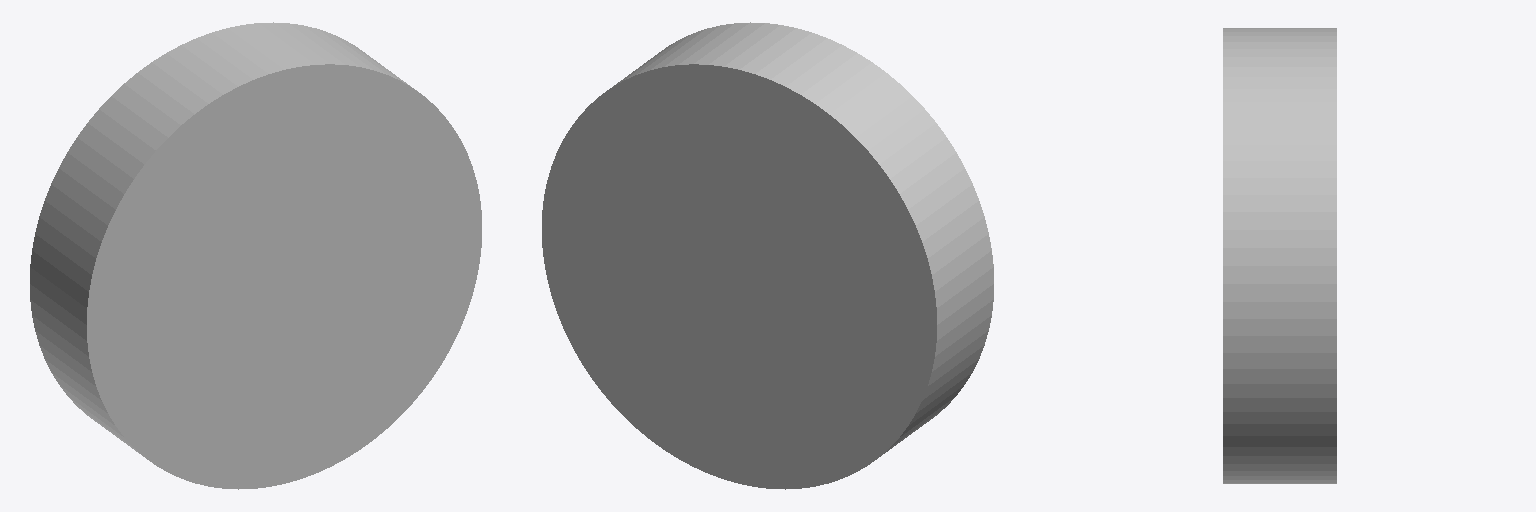
The model's file is Erdkern.obj.
The picture shows the model from 3 angles: view 1: azimuth 30°, elevation 25°; view 2: azimuth 150°, elevation 25°; view 3: azimuth 270°, elevation 25°; orthographic projection.
Parts seen in each view (by area): view 1: Circle_Circle.001; view 2: Circle_Circle.001; view 3: Circle_Circle.001.
Part boxes in pixels (left/top/right/bottom): Circle_Circle.001: left=30, top=22, right=481, bottom=489; Circle_Circle.001: left=542, top=22, right=993, bottom=489; Circle_Circle.001: left=1223, top=28, right=1336, bottom=483.
Size of the model in its own units: 2 by 2 by 0.5.